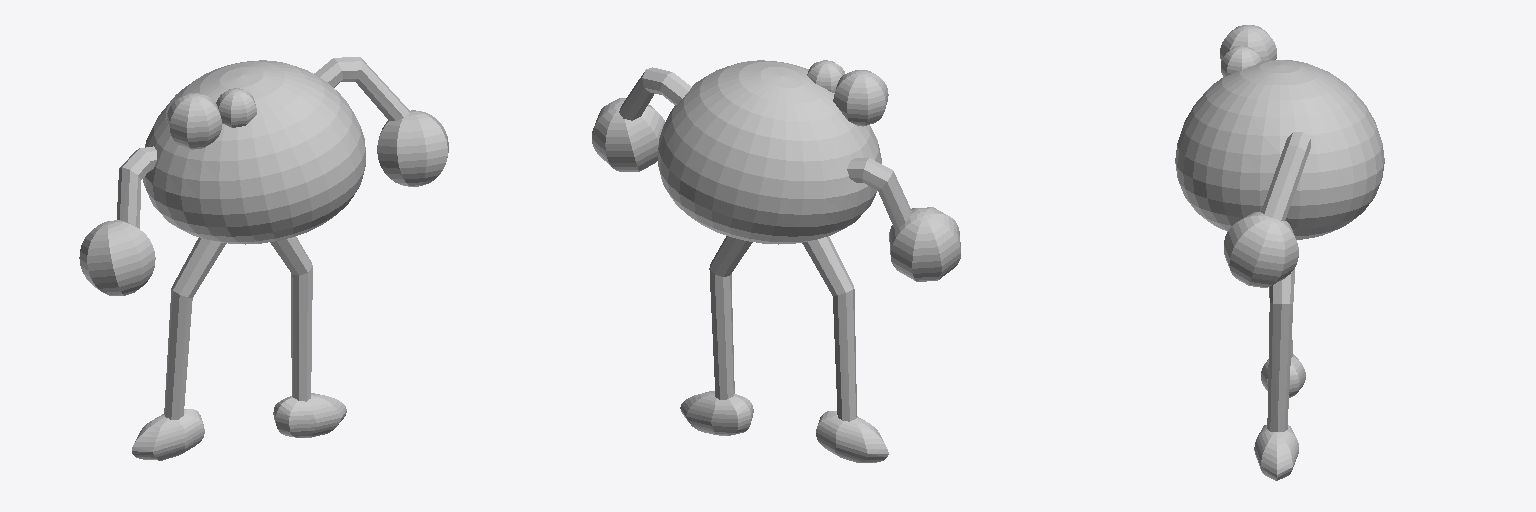
The model's file is SS_InspectorRight.obj.
3 views of the same model, side by side, from view 1: azimuth 30°, elevation 25°; view 2: azimuth 150°, elevation 25°; view 3: azimuth 270°, elevation 25° (orthographic).
Visible parts, largest first — view 1: Sphere, Sphere.002, Sphere.001, Cylinder.003, Cylinder.002, Sphere.003, Sphere.004, Sphere.005, Cylinder, Cylinder.001, Sphere.006; view 2: Sphere, Sphere.002, Cylinder.003, Sphere.001, Cylinder.002, Sphere.003, Sphere.004, Sphere.005, Cylinder.001, Cylinder, Sphere.006; view 3: Sphere, Sphere.001, Cylinder.002, Cylinder, Sphere.004, Sphere.005, Sphere.006, Sphere.003.
Boxes of the visible parts, x1=… form: Sphere: x1=143, y1=60, x2=365, y2=244; Sphere.002: x1=79, y1=220, x2=155, y2=295; Sphere.001: x1=377, y1=110, x2=448, y2=186; Cylinder.003: x1=164, y1=237, x2=226, y2=419; Cylinder.002: x1=270, y1=236, x2=312, y2=401; Sphere.003: x1=132, y1=409, x2=204, y2=460; Sphere.004: x1=273, y1=393, x2=346, y2=437; Sphere.005: x1=167, y1=93, x2=221, y2=149; Cylinder: x1=314, y1=57, x2=409, y2=120; Cylinder.001: x1=117, y1=146, x2=156, y2=228; Sphere.006: x1=216, y1=88, x2=256, y2=127; Sphere: x1=658, y1=60, x2=881, y2=244; Sphere.002: x1=889, y1=207, x2=960, y2=281; Cylinder.003: x1=802, y1=236, x2=856, y2=421; Sphere.001: x1=592, y1=98, x2=664, y2=171; Cylinder.002: x1=709, y1=236, x2=752, y2=399; Sphere.003: x1=816, y1=411, x2=888, y2=462; Sphere.004: x1=680, y1=391, x2=753, y2=435; Sphere.005: x1=833, y1=70, x2=888, y2=126; Cylinder.001: x1=847, y1=158, x2=911, y2=228; Cylinder: x1=619, y1=67, x2=691, y2=120; Sphere.006: x1=807, y1=60, x2=844, y2=92; Sphere: x1=1175, y1=60, x2=1384, y2=239; Sphere.001: x1=1224, y1=212, x2=1298, y2=287; Cylinder.002: x1=1267, y1=269, x2=1294, y2=431; Cylinder: x1=1261, y1=132, x2=1310, y2=220; Sphere.004: x1=1254, y1=425, x2=1298, y2=480; Sphere.005: x1=1220, y1=25, x2=1276, y2=60; Sphere.006: x1=1221, y1=46, x2=1261, y2=76; Sphere.003: x1=1261, y1=354, x2=1305, y2=397.
Bounding box in the file's own units: 1.69 × 1.71 × 0.8501.